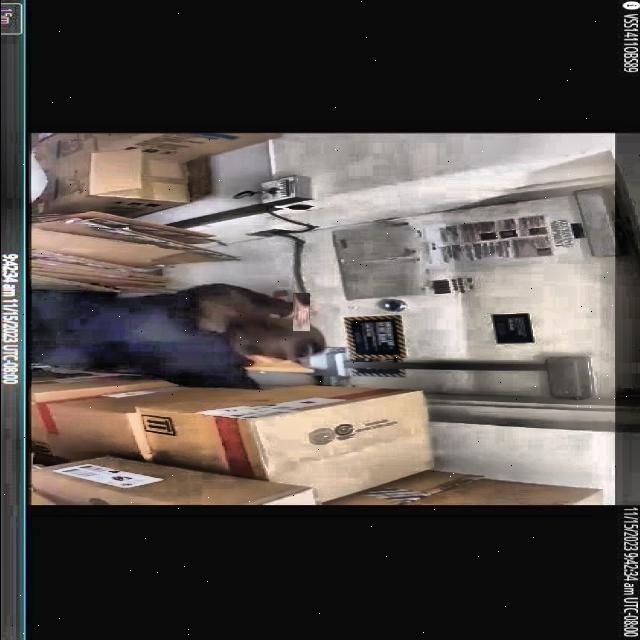gloved: (286, 298, 314, 326)
